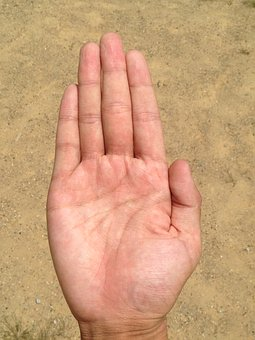palm: (53, 165, 191, 302)
